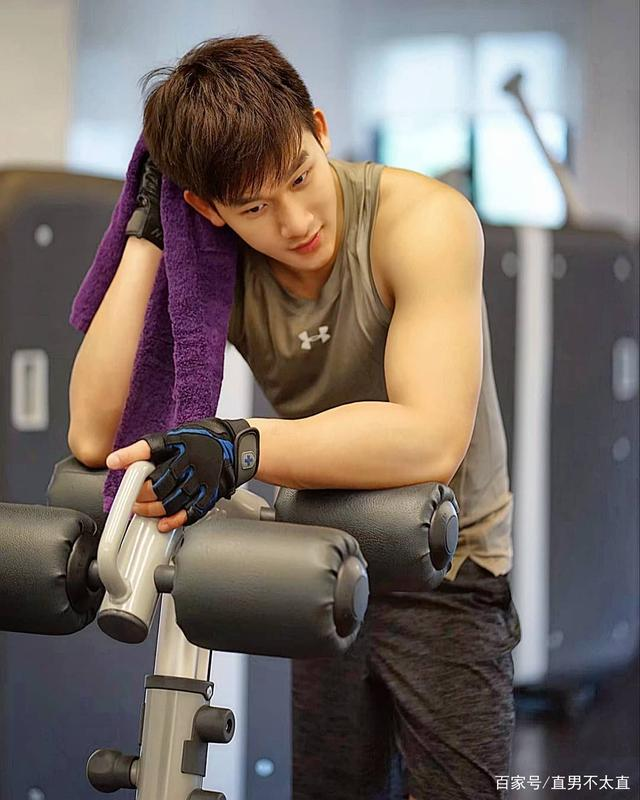person: (60, 34, 474, 613)
